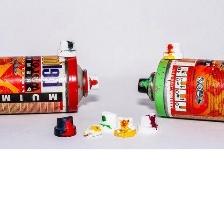aerosol_cans: (0, 48, 104, 119), (132, 53, 224, 124)
